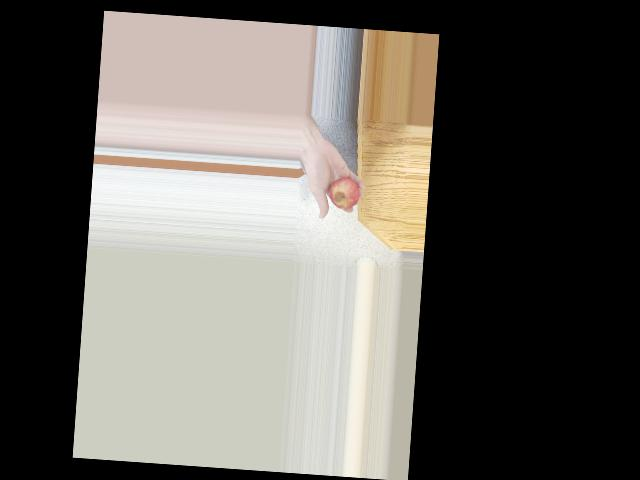apple: (324, 171, 362, 215)
